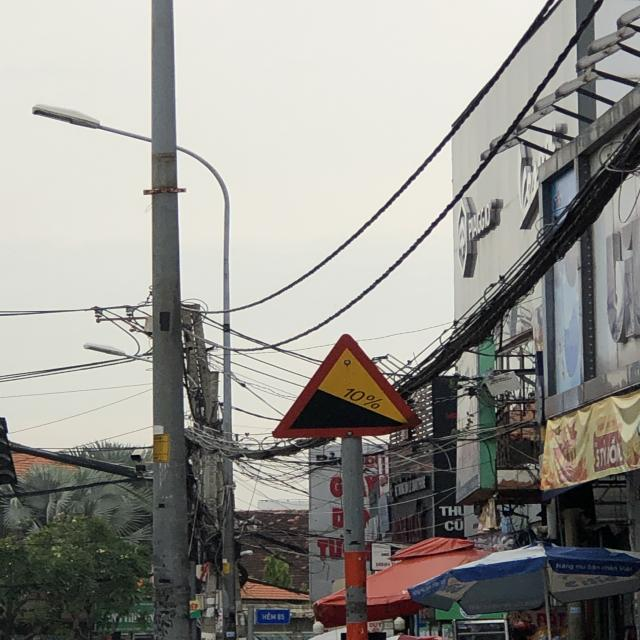Bien bao doc xuong nguy hiem: (271, 330, 429, 442)
